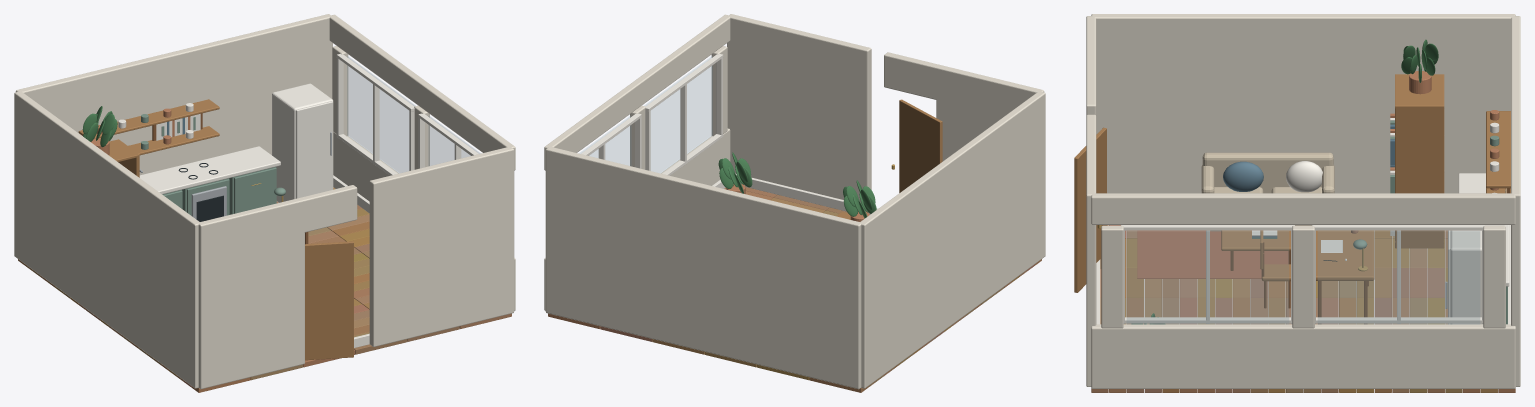
The model's file is DrawingHouse.fbx.
The picture shows the model from 3 angles, left to right: view 1: azimuth 30°, elevation 25°; view 2: azimuth 150°, elevation 25°; view 3: azimuth 270°, elevation 25°; orthographic projection. The views are drawn at different scales.
Visible parts, largest first — view 1: Left wall, Front wall right, Back wall, Front wall left, Oak entrance door, Right wall lintel, Window pane.001, Fridge door, Stone countertop, Refrigerator, Door header, Right wall sill (+16 smaller); view 2: Back wall, Left wall, Front wall right, Right wall lintel, Front wall left, Window pane, Oak entrance door, Door header, Right wall sill, Baseboard long.001, Window pane.001, Window pier (+6 smaller); view 3: Left wall, Right wall sill, Window pane, Window pane.001, Right wall lintel, Living room rug, Bookcase right, Back wall, Refrigerator, Oak entrance door, Sofa back, Front wall right (+34 smaller).
Boxes of the visible parts, x1,y1,x2,y2 form: Left wall: [14, 91, 199, 388]; Front wall right: [369, 146, 514, 346]; Back wall: [15, 14, 332, 175]; Front wall left: [198, 198, 304, 389]; Oak entrance door: [305, 241, 353, 360]; Right wall lintel: [329, 14, 515, 170]; Window pane.001: [347, 56, 415, 173]; Fridge door: [296, 101, 333, 198]; Stone countertop: [139, 146, 280, 194]; Refrigerator: [272, 83, 333, 202]; Door header: [287, 185, 357, 234]; Right wall sill: [333, 132, 515, 310]; Back wall: [545, 146, 861, 389]; Left wall: [860, 91, 1045, 388]; Front wall right: [727, 14, 871, 203]; Right wall lintel: [544, 14, 730, 170]; Front wall left: [936, 65, 1044, 161]; Window pane: [644, 56, 712, 173]; Oak entrance door: [899, 99, 942, 192]; Door header: [884, 52, 953, 102]; Right wall sill: [544, 128, 730, 310]; Baseboard long.001: [735, 173, 878, 214]; Window pane.001: [579, 116, 631, 165]; Window pier: [711, 46, 727, 136]; Left wall: [1091, 14, 1515, 193]; Right wall sill: [1091, 324, 1515, 388]; Window pane: [1127, 231, 1288, 324]; Window pane.001: [1318, 231, 1479, 324]; Right wall lintel: [1091, 193, 1515, 224]; Living room rug: [1137, 230, 1288, 278]; Bookcase right: [1395, 108, 1444, 248]; Back wall: [1511, 16, 1520, 386]; Refrigerator: [1450, 230, 1482, 324]; Oak entrance door: [1074, 127, 1106, 292]; Sofa back: [1202, 152, 1333, 193]; Front wall right: [1086, 114, 1096, 386].
Size of the model in its own units: 614 by 309 by 631.
